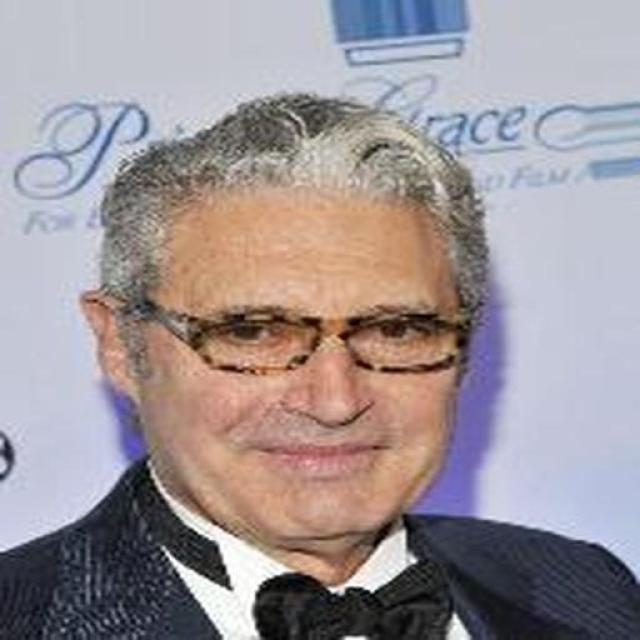bareface: (82, 144, 503, 536)
